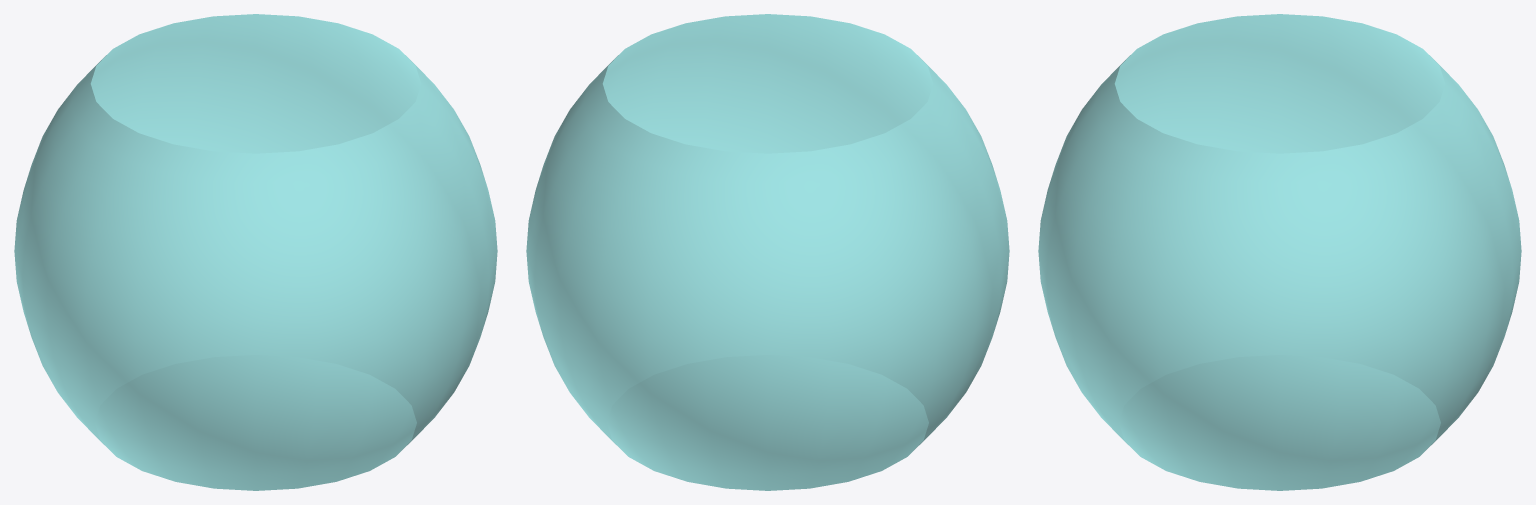
File: original-68.obj
The picture shows the model from 3 angles, left to right: view 1: azimuth 30°, elevation 25°; view 2: azimuth 150°, elevation 25°; view 3: azimuth 270°, elevation 25°; orthographic projection.
Parts seen in each view (by area): view 1: Group12/mesh62/mesh62-geometry#mesh62-geometry; view 2: Group12/mesh62/mesh62-geometry#mesh62-geometry; view 3: Group12/mesh62/mesh62-geometry#mesh62-geometry.
Part boxes in pixels (x1,y1,x2,y2): Group12/mesh62/mesh62-geometry#mesh62-geometry: (14, 14, 497, 490); Group12/mesh62/mesh62-geometry#mesh62-geometry: (526, 14, 1009, 490); Group12/mesh62/mesh62-geometry#mesh62-geometry: (1038, 14, 1521, 490).
Size of the model in its own units: 0.5994 by 0.4641 by 0.5994.
